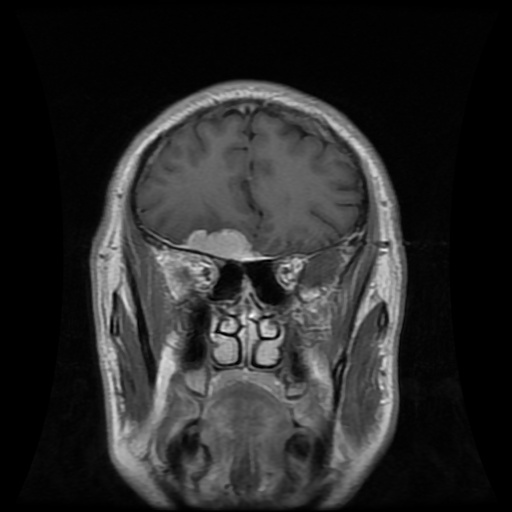meningioma: (181, 229, 259, 257)
